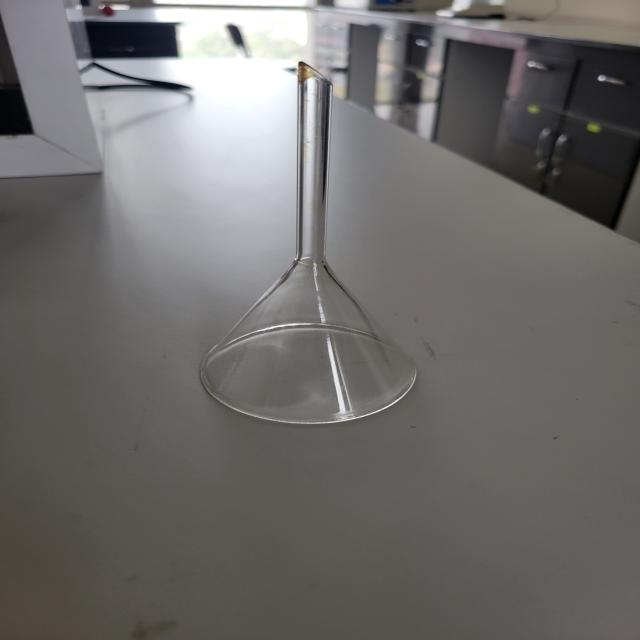Funnel: (208, 32, 441, 454)
